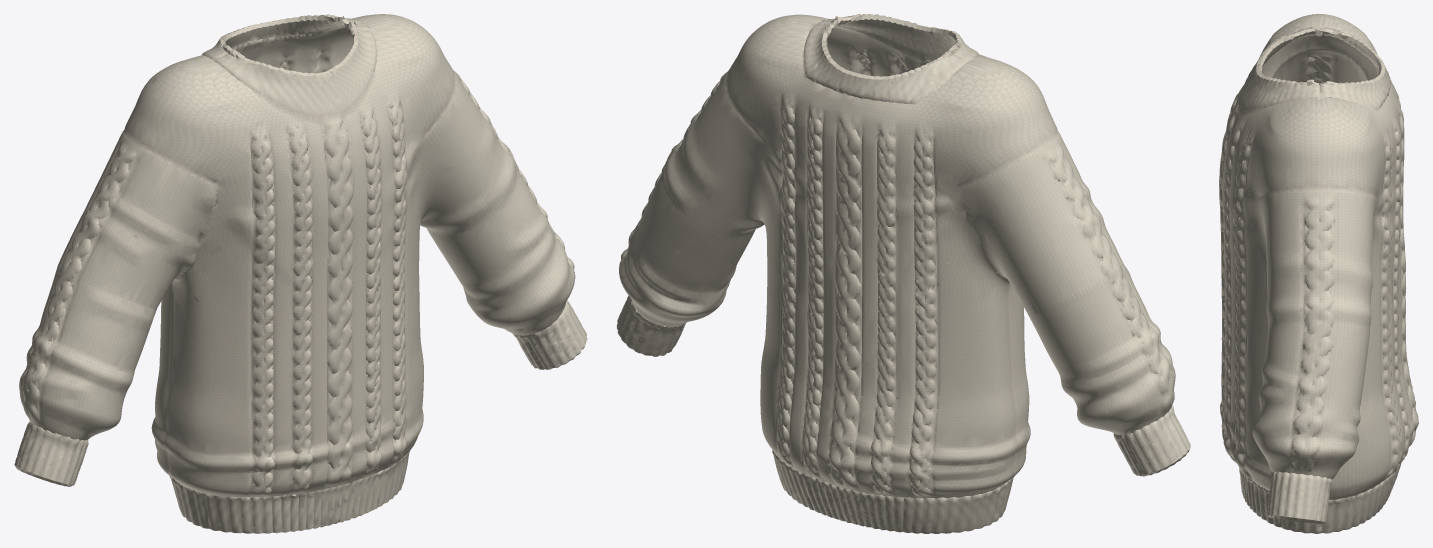
File: 05_jersey_ochos_pbr.glb
3 views of the same model, side by side, from view 1: azimuth 30°, elevation 25°; view 2: azimuth 150°, elevation 25°; view 3: azimuth 270°, elevation 25° (orthographic). The views are drawn at different scales.
Visible parts, largest first — view 1: Camiseta PBR; view 2: Camiseta PBR; view 3: Camiseta PBR.
Part boxes in pixels (x1,y1,x2,y2): Camiseta PBR: (14,14,587,533); Camiseta PBR: (616,14,1190,533); Camiseta PBR: (1219,14,1418,533).
Bounding box in the file's own units: 0.9903 × 0.7775 × 0.3238.
1 material, 1 textured.
